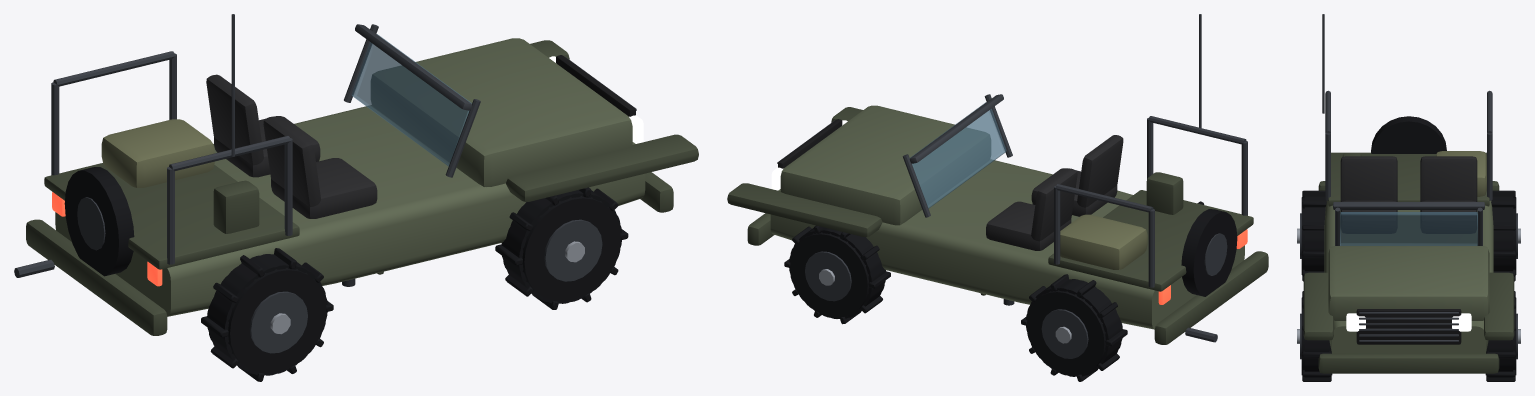
Rendered from jeep.glb.
3 renders of one model, left to right at view 1: azimuth 30°, elevation 25°; view 2: azimuth 150°, elevation 25°; view 3: azimuth 270°, elevation 25°, orthographic. The views are drawn at different scales.
Visible parts, largest first — view 1: body; view 2: body; view 3: body.
Boxes of the visible parts, bbox=[...] form: body: bbox=[14, 14, 698, 381]; body: bbox=[727, 14, 1268, 381]; body: bbox=[1297, 14, 1520, 381].
Bounding box in the file's own units: 4.85 × 2.92 × 2.36.
